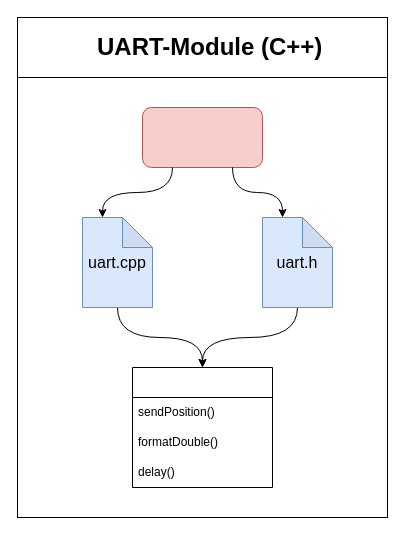
The diagram is 406 pixels wide and 543 high, and some of its shapes have lost their labels. Each missing label, with the box of its shape:
Functions: (132, 366, 272, 488)
QSerialPort library: (142, 106, 262, 168)
